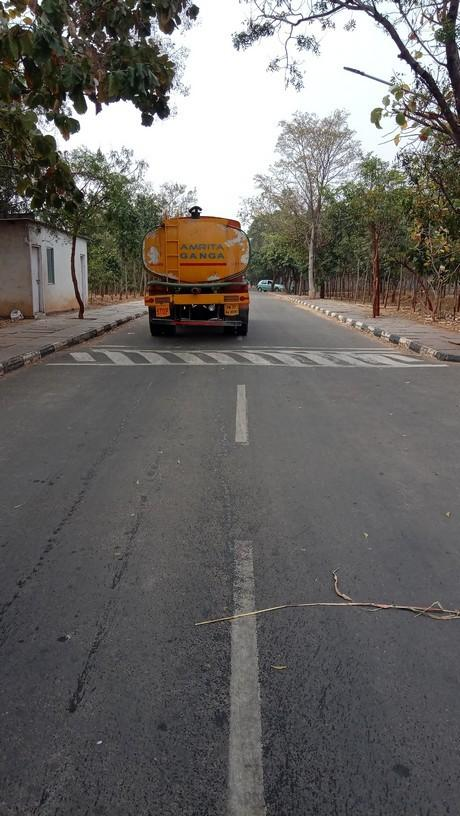Bump: (68, 354, 400, 372)
